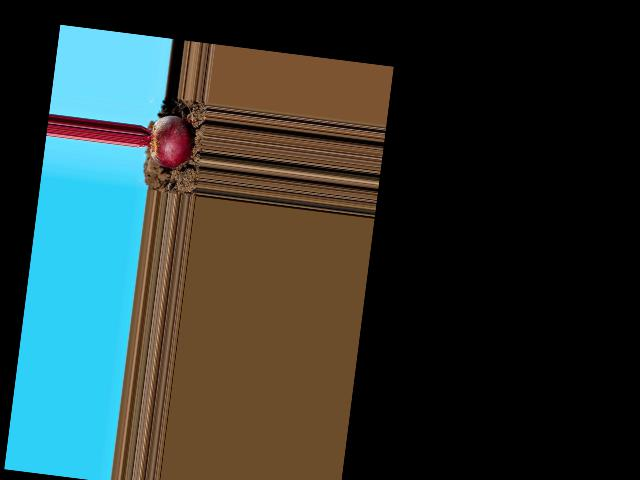beet: (136, 111, 197, 170)
